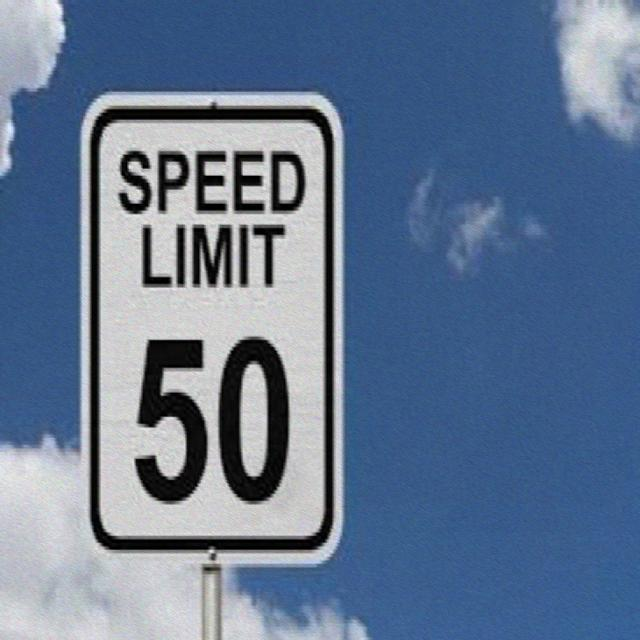speedLimit50: (82, 82, 344, 568)
